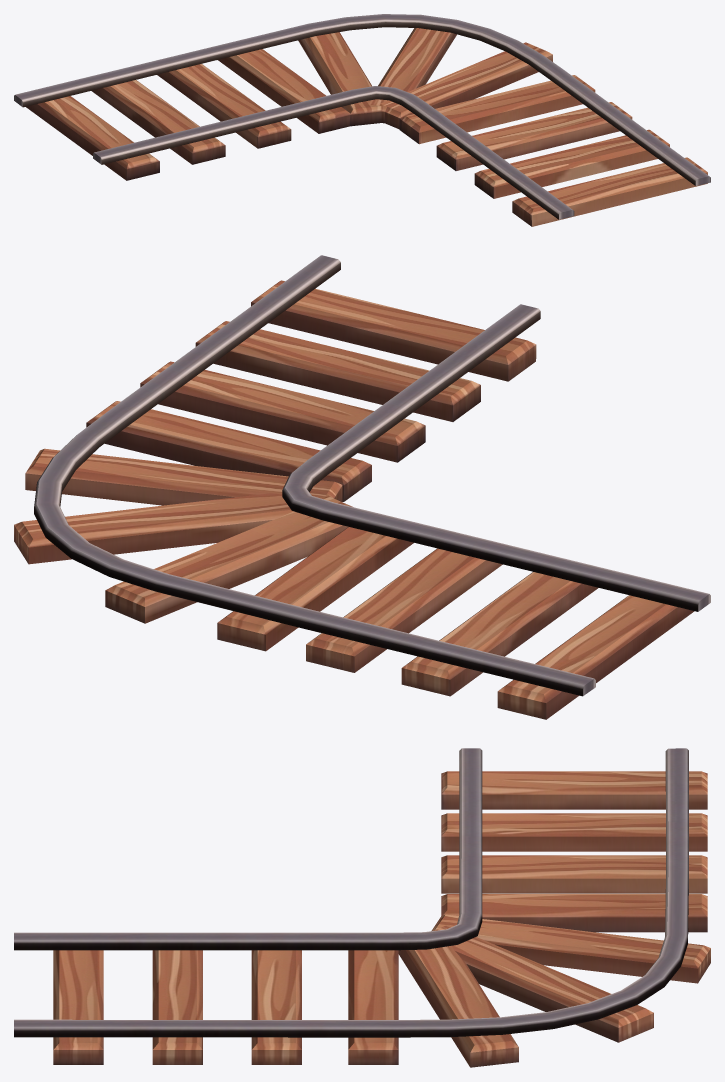
The model's file is CurveRail.fbx.
3 renders of one model, top to bottom at view 1: azimuth 30°, elevation 25°; view 2: azimuth 150°, elevation 25°; view 3: azimuth 270°, elevation 25°, orthographic. The views are drawn at different scales.
Parts seen in each view (by area): view 1: CurveRail; view 2: CurveRail; view 3: CurveRail.
Boxes of the visible parts, left/top/right/bottom form: CurveRail: left=14, top=14, right=710, bottom=226; CurveRail: left=14, top=255, right=710, bottom=719; CurveRail: left=14, top=748, right=710, bottom=1067.
Size of the model in its own units: 185 by 8.64 by 188.
